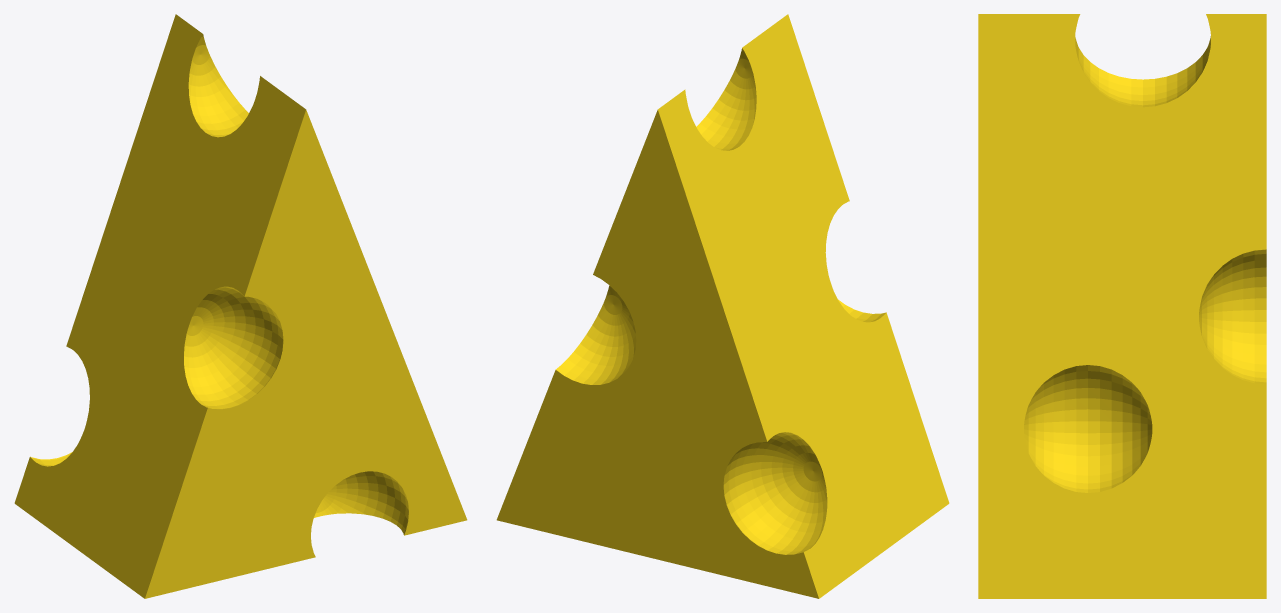
File: tinker.obj
3 renders of one model, left to right at view 1: azimuth 30°, elevation 25°; view 2: azimuth 150°, elevation 25°; view 3: azimuth 270°, elevation 25°, orthographic. The views are drawn at different scales.
Visible parts, largest first — view 1: obj_0; view 2: obj_0; view 3: obj_0.
Boxes of the visible parts, <box> form: obj_0: <box>14,14,467,598</box>; obj_0: <box>496,14,949,598</box>; obj_0: <box>978,14,1266,598</box>.
Size of the model in its own units: 30 by 40 by 21.
